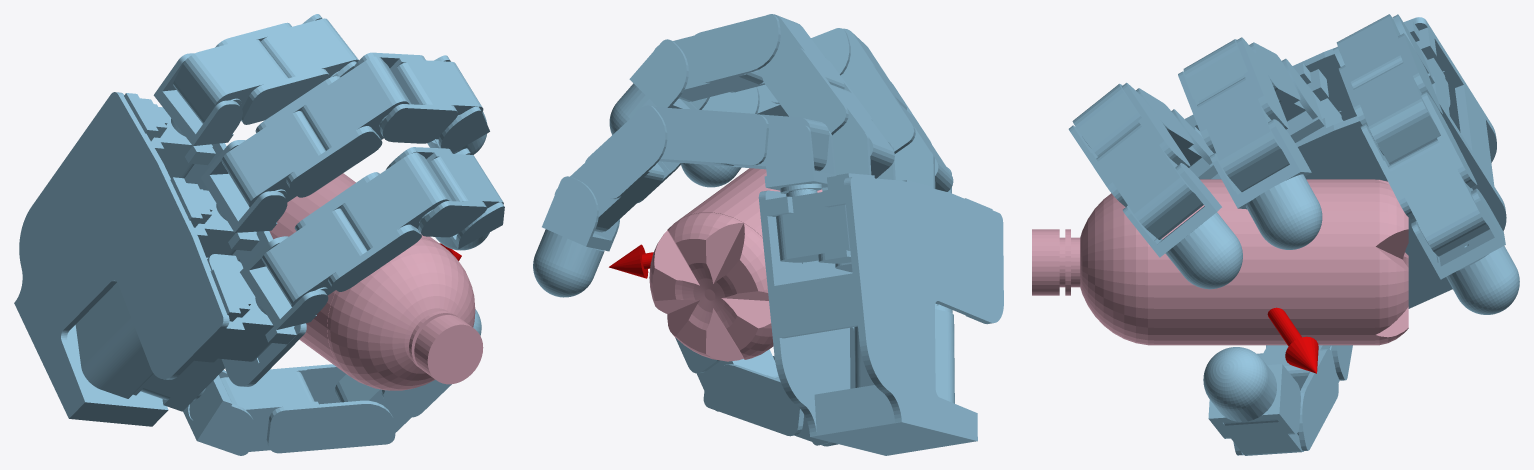
3 views of the same model, side by side, from view 1: azimuth 30°, elevation 25°; view 2: azimuth 150°, elevation 25°; view 3: azimuth 270°, elevation 25° (orthographic). The views are drawn at different scales.
Parts seen in each view (by area): view 1: world, water_bottle.stl; view 2: world, water_bottle.stl; view 3: world, water_bottle.stl.
Part boxes in pixels (x1=…): world: x1=14, y1=14, x2=504, y2=455; water_bottle.stl: x1=269, y1=173, x2=483, y2=390; world: x1=533, y1=14, x2=1003, y2=455; water_bottle.stl: x1=649, y1=168, x2=822, y2=361; world: x1=1068, y1=14, x2=1519, y2=455; water_bottle.stl: x1=1032, y1=179, x2=1408, y2=345.
Size of the model in its own units: 0.1699 by 0.164 by 0.1768.
